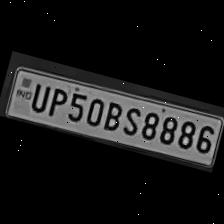0: (80, 92, 108, 128)
5: (62, 86, 91, 124)
6: (190, 120, 218, 156)
8: (135, 106, 163, 144), (154, 110, 182, 146), (172, 114, 198, 151)
B: (100, 98, 126, 134)
P: (43, 82, 70, 119)
S: (117, 102, 144, 138)
U: (25, 77, 53, 114)
